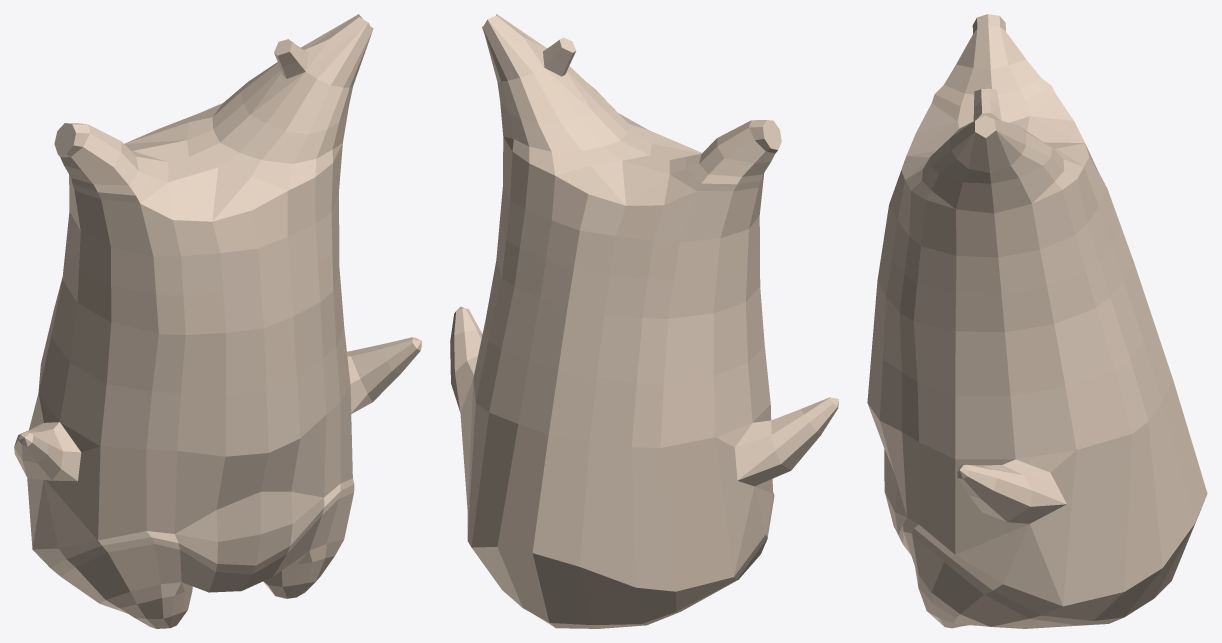
The model's file is frame_0107.obj.
The picture shows the model from 3 angles, left to right: view 1: azimuth 30°, elevation 25°; view 2: azimuth 150°, elevation 25°; view 3: azimuth 270°, elevation 25°; orthographic projection. The views are drawn at different scales.
Parts seen in each view (by area): view 1: korok; view 2: korok; view 3: korok.
Part boxes in pixels (x1,y1,x2,y2): korok: (14, 14, 421, 628); korok: (450, 14, 838, 628); korok: (867, 14, 1207, 628).
Size of the model in its own units: 1.47 by 1.94 by 1.06.
